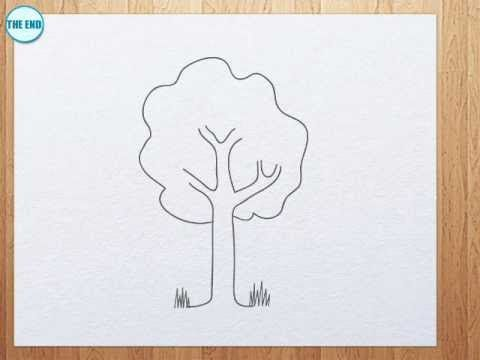tree: (116, 48, 339, 300)
